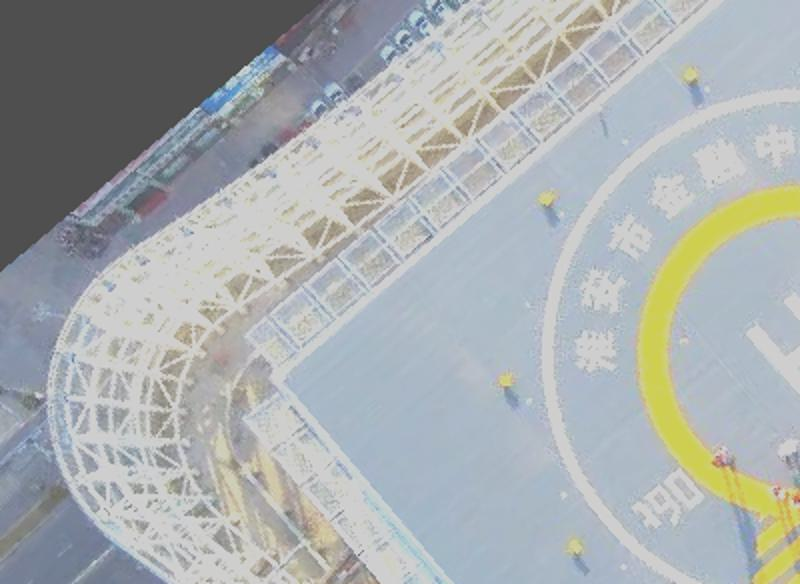Apron: (650, 193, 798, 478)
